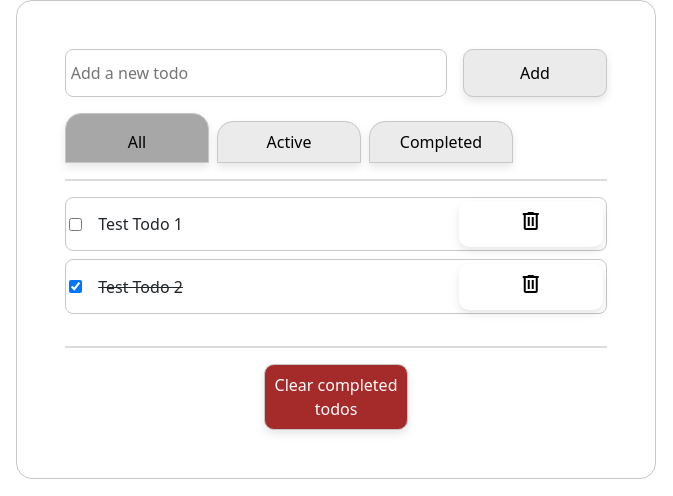
Test: TodoPage Component › filters active todos
Expected: the text "Test Todo 1" is shown, [98,212,183,236]
What coordinates should you click on to do the following:
click the button "Active"
I would click on:
 (289, 142)
Its box is [217,121,361,163].
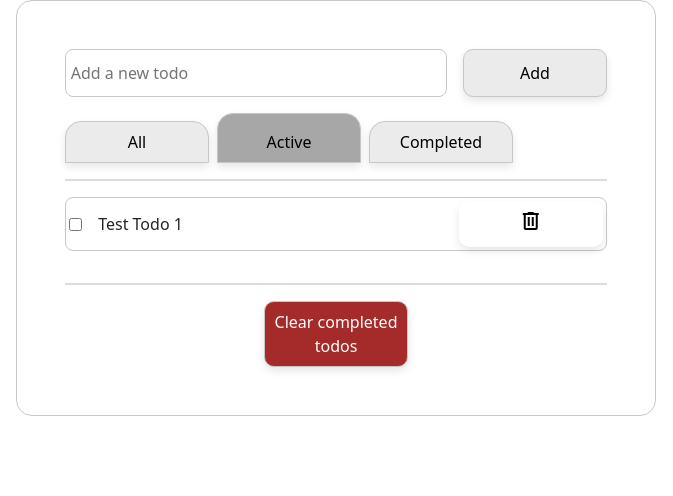
Result: the text "Test Todo 2" is gone
